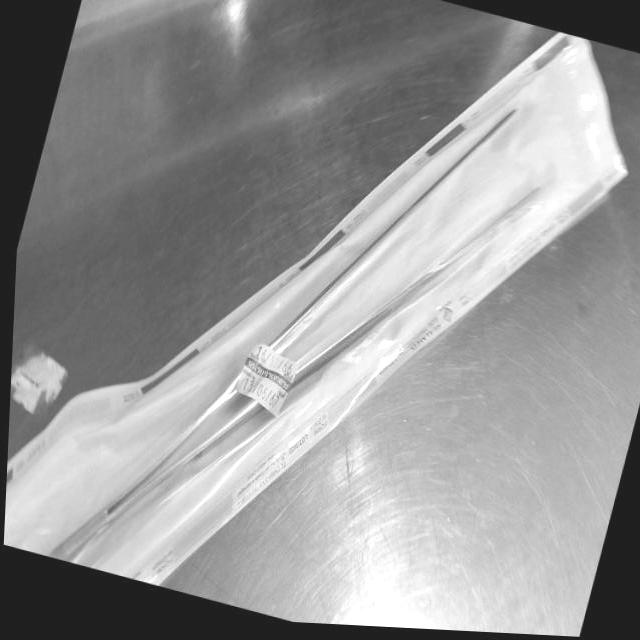General: (6, 24, 629, 592)
